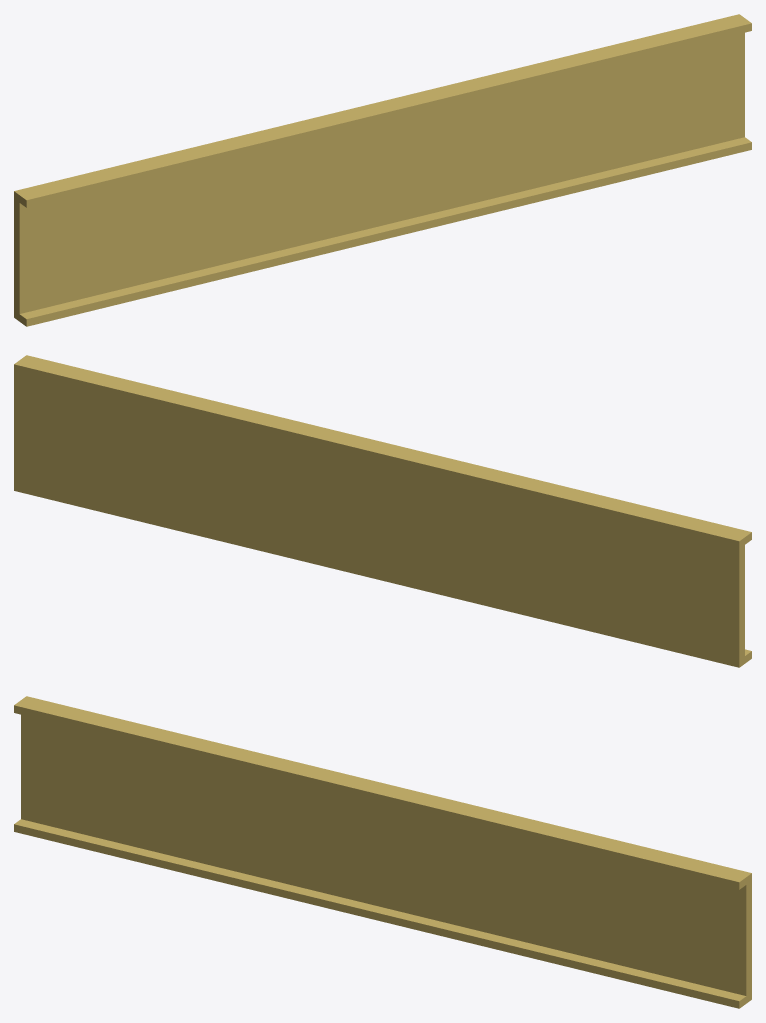
The model's file is lvltitleholder.glb.
3 renders of one model, top to bottom at view 1: azimuth 30°, elevation 25°; view 2: azimuth 150°, elevation 25°; view 3: azimuth 330°, elevation 25°, orthographic.
Parts seen in each view (by area): view 1: Mesh_Mesh_head_geo.001_lambert2SG.001; view 2: Mesh_Mesh_head_geo.001_lambert2SG.001; view 3: Mesh_Mesh_head_geo.001_lambert2SG.001.
Part boxes in pixels (<box>): Mesh_Mesh_head_geo.001_lambert2SG.001: <box>14,14,751,326</box>; Mesh_Mesh_head_geo.001_lambert2SG.001: <box>14,355,751,667</box>; Mesh_Mesh_head_geo.001_lambert2SG.001: <box>14,696,751,1008</box>.
Size of the model in its own units: 300 by 50 by 9.
